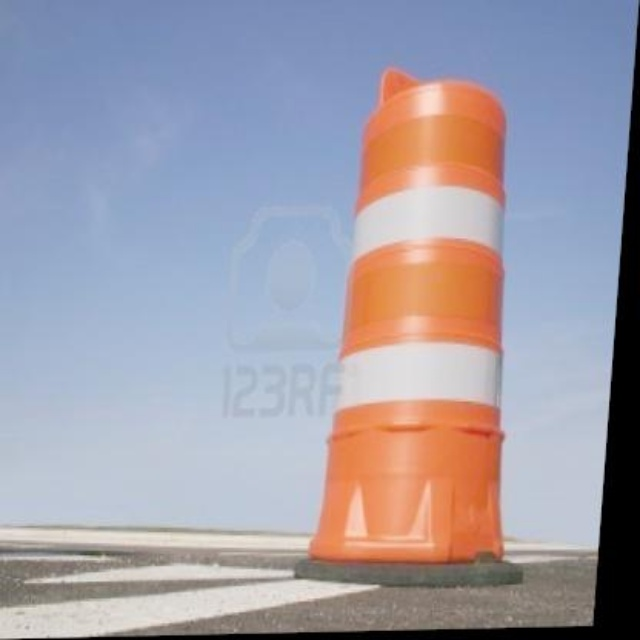obstacle: (325, 59, 554, 575)
